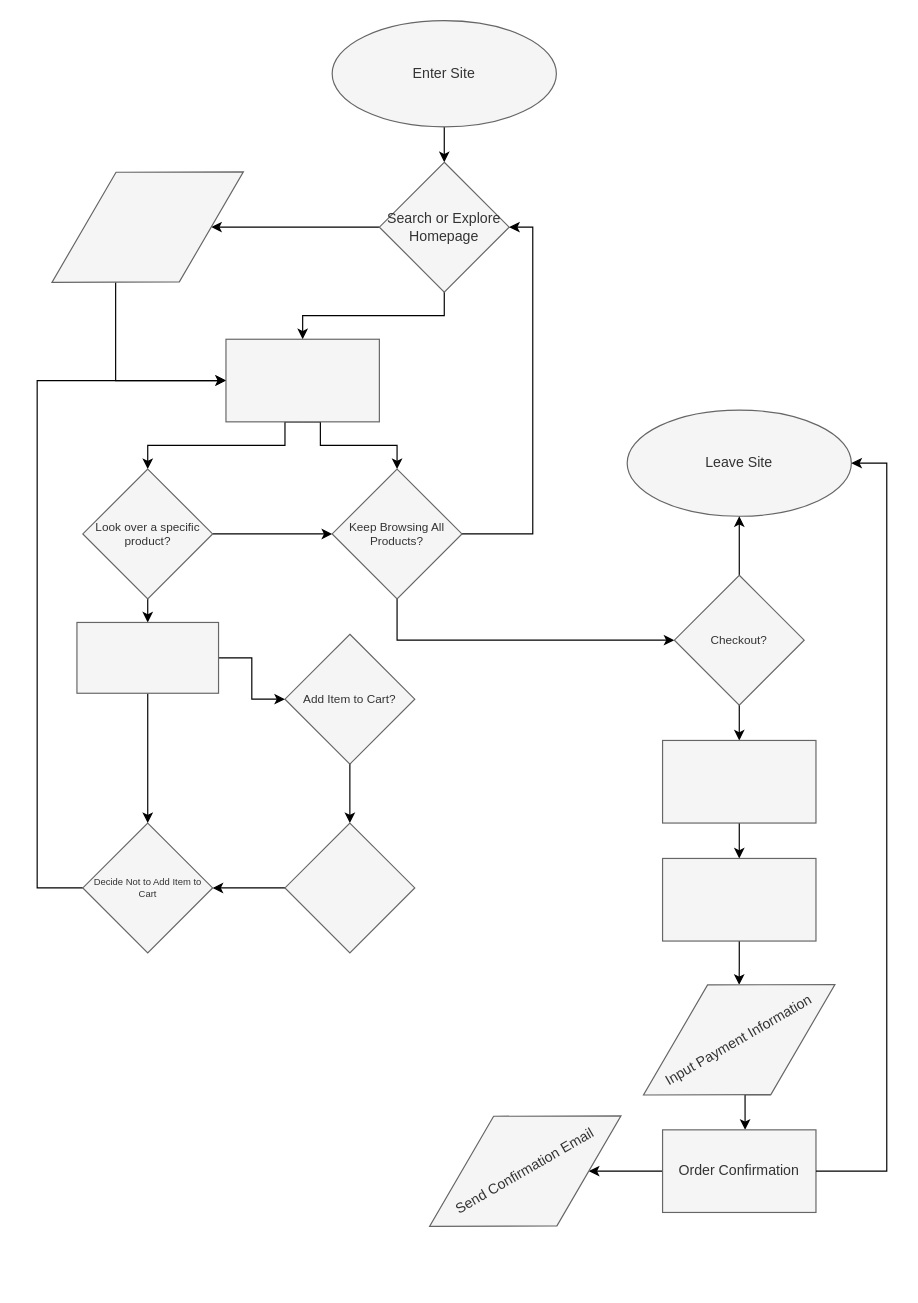
Some shapes in this 918 by 1303 pixel diagram are drawn without their labels. Here are the shapes that lost their labels. From the top down, the box of each, then its label:
(19, 116, 275, 337): Input Search Query
(225, 338, 379, 422): Look Over Products
(76, 621, 219, 693): Open Product Page
(661, 739, 816, 823): View Cart
(284, 822, 415, 953): Confirm Adding to Cart?
(661, 857, 816, 941): View Payment
